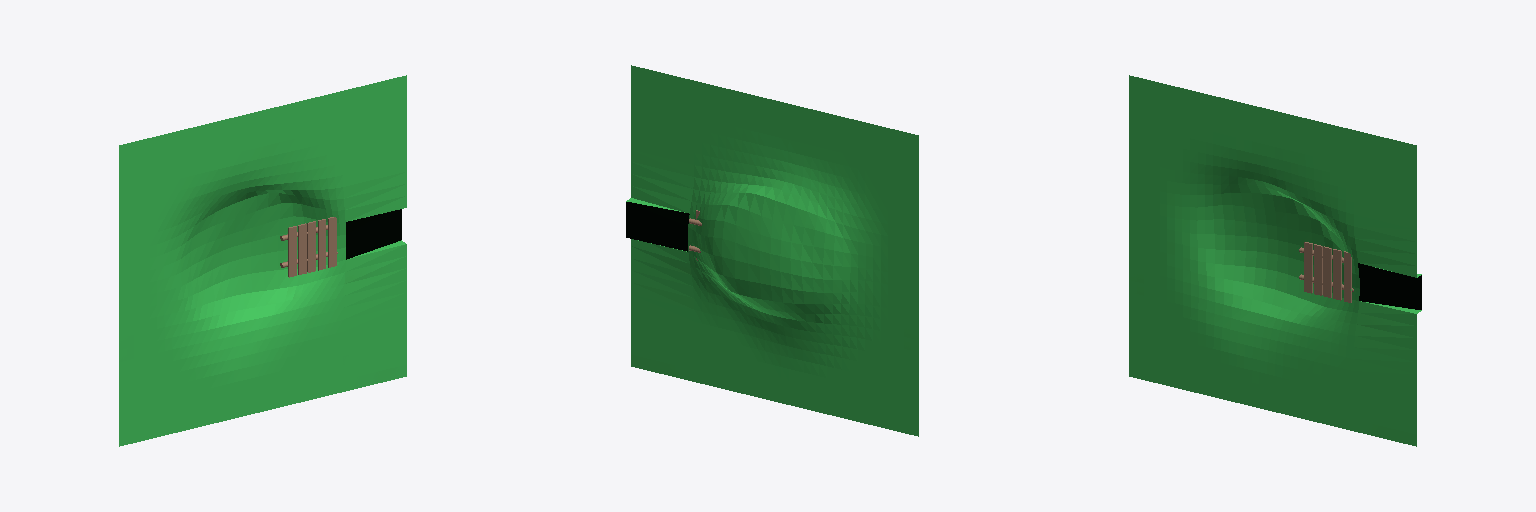
3 views of the same model, side by side, from view 1: azimuth 30°, elevation 25°; view 2: azimuth 150°, elevation 25°; view 3: azimuth 330°, elevation 25° (orthographic).
Parts seen in each view (by area): view 1: Plane; view 2: Plane; view 3: Plane.
Part boxes in pixels (x1,y1,x2,y2): Plane: (119,75,406,446); Plane: (626,65,918,436); Plane: (1129,75,1421,446).
Bounding box in the file's own units: 10 × 10 × 0.8246.
Materials: 1 (1 with a texture image).